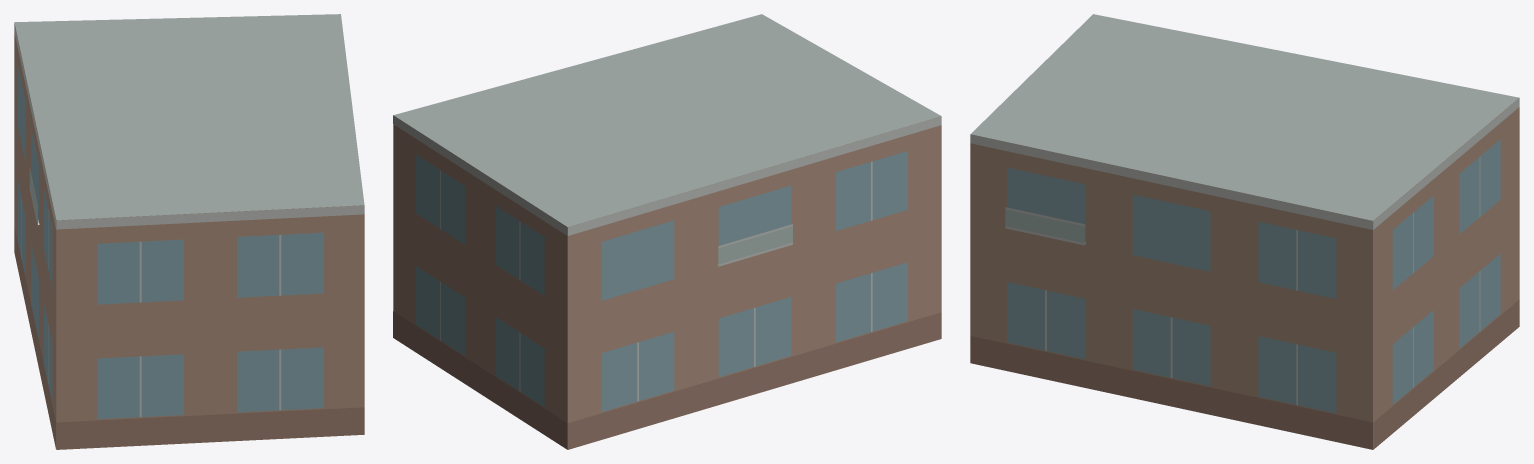
Rendered from survey-upis-32690793.glb.
3 renders of one model, left to right at view 1: azimuth 30°, elevation 25°; view 2: azimuth 150°, elevation 25°; view 3: azimuth 270°, elevation 25°, orthographic. The views are drawn at different scales.
Parts seen in each view (by area): view 1: survey-upis-32690793.tmp; view 2: survey-upis-32690793.tmp; view 3: survey-upis-32690793.tmp.
Boxes of the visible parts, x1,y1,x2,y2 form: survey-upis-32690793.tmp: (14,14,364,449); survey-upis-32690793.tmp: (393,14,941,449); survey-upis-32690793.tmp: (970,14,1519,449).
Bounding box in the file's own units: 11.83 × 6.1 × 13.27.
